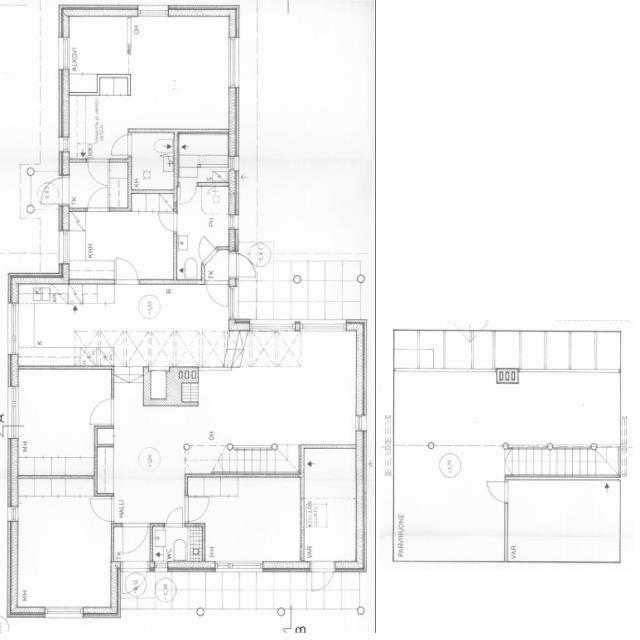door: (250, 162, 372, 255), (14, 367, 109, 479), (0, 59, 45, 162), (151, 524, 204, 568), (175, 242, 205, 284), (116, 522, 150, 558), (204, 266, 232, 309), (85, 394, 117, 428), (111, 254, 141, 288), (87, 494, 117, 523), (185, 493, 213, 523), (309, 562, 336, 592), (86, 184, 111, 214), (86, 158, 110, 187), (233, 251, 257, 280), (108, 132, 133, 158), (176, 179, 198, 206), (485, 478, 508, 503), (162, 505, 185, 529), (197, 234, 216, 260), (157, 210, 178, 233)
window: (225, 34, 243, 92), (4, 382, 22, 438), (4, 299, 21, 358), (42, 604, 88, 622), (298, 320, 349, 335), (213, 559, 264, 573), (56, 228, 72, 268), (135, 4, 172, 19), (57, 34, 70, 72), (353, 412, 369, 436), (6, 502, 19, 525)
zone: (387, 368, 625, 448), (11, 484, 115, 616), (130, 15, 233, 132), (250, 163, 370, 258), (191, 476, 304, 567), (14, 369, 107, 479), (14, 284, 129, 368), (76, 210, 178, 284), (65, 15, 131, 82), (302, 495, 361, 567), (0, 75, 44, 164), (176, 186, 234, 252), (0, 163, 29, 262), (177, 132, 232, 184), (130, 131, 176, 193), (64, 94, 102, 158), (150, 528, 206, 570), (97, 240, 149, 284), (175, 242, 204, 284), (108, 162, 132, 211)
